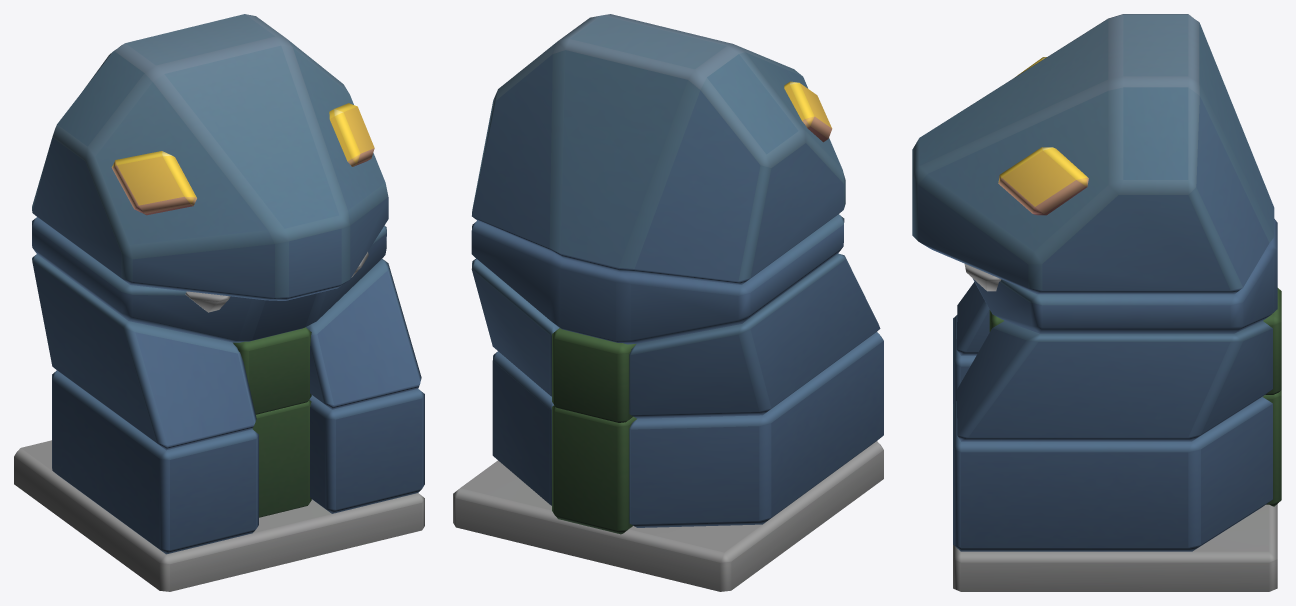
File: statue_snake_blue.fbx
The picture shows the model from 3 angles, left to right: view 1: azimuth 30°, elevation 25°; view 2: azimuth 150°, elevation 25°; view 3: azimuth 270°, elevation 25°; orthographic projection. The views are drawn at different scales.
Parts seen in each view (by area): view 1: statue_snake_blue; view 2: statue_snake_blue; view 3: statue_snake_blue.
Boxes of the visible parts, x1,y1,x2,y2 form: statue_snake_blue: (14, 14, 424, 591); statue_snake_blue: (453, 14, 883, 591); statue_snake_blue: (912, 14, 1281, 591).
Bounding box in the file's own units: 200 × 325 × 227.
